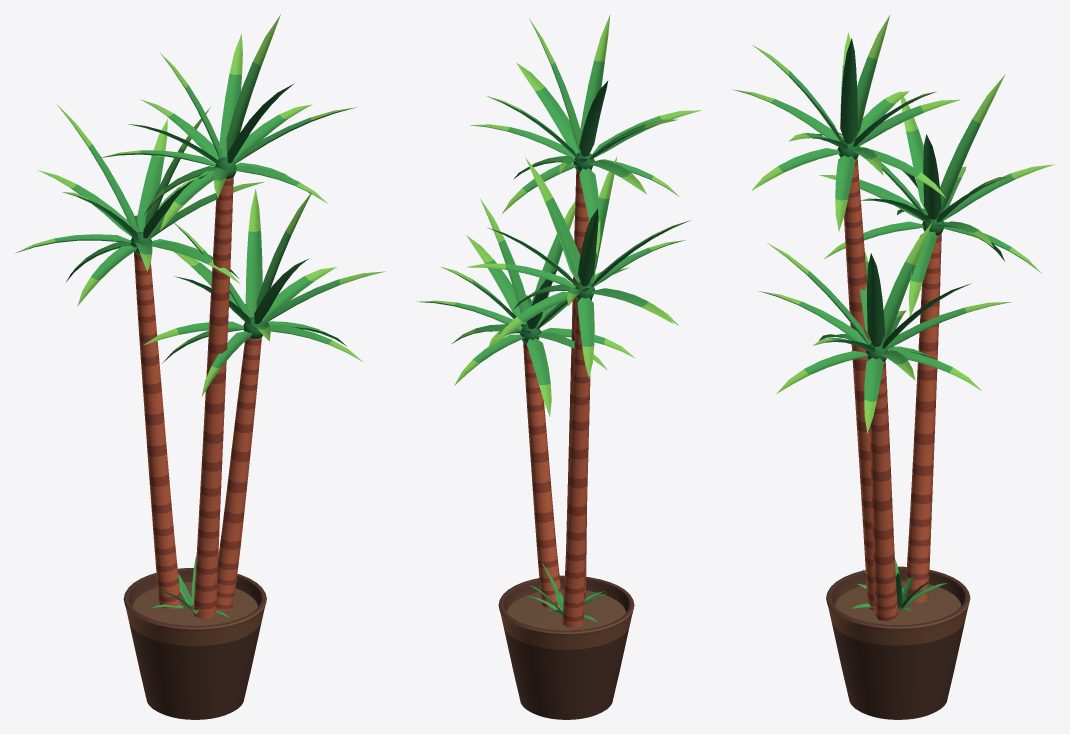
The model's file is planta_palmeira_tres_troncos.glb.
3 renders of one model, left to right at view 1: azimuth 30°, elevation 25°; view 2: azimuth 150°, elevation 25°; view 3: azimuth 270°, elevation 25°, orthographic. The views are drawn at different scales.
Parts seen in each view (by area): view 1: planta_palmeira_tres_troncos; view 2: planta_palmeira_tres_troncos; view 3: planta_palmeira_tres_troncos.
Boxes of the visible parts, bbox=[...] form: planta_palmeira_tres_troncos: bbox=[15, 14, 385, 719]; planta_palmeira_tres_troncos: bbox=[416, 15, 701, 719]; planta_palmeira_tres_troncos: bbox=[733, 15, 1054, 719].
Bounding box in the file's own units: 0.9842 × 2.17 × 0.9215.
1 material, 1 textured.
